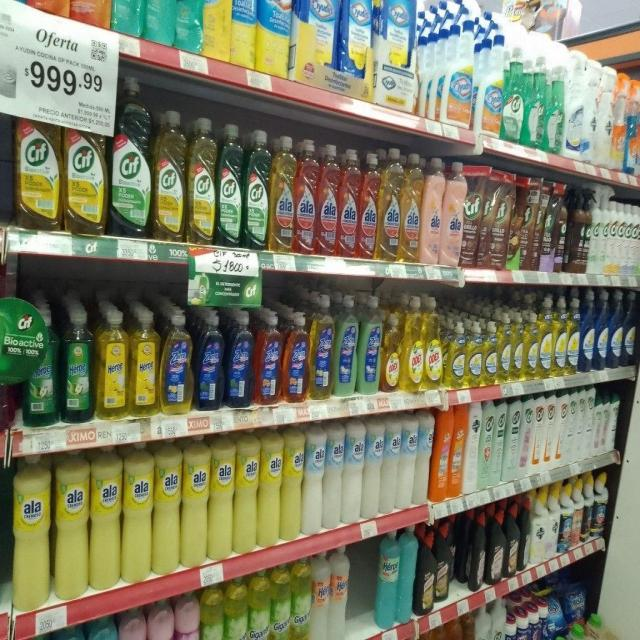ala_conc_amarillo: (270, 134, 294, 252), (379, 148, 400, 262), (401, 151, 421, 263)
ala_conc_rojo: (295, 138, 317, 255), (317, 142, 338, 256), (338, 146, 358, 258), (359, 150, 378, 260)
ala_crem_amarillo: (12, 452, 51, 612), (54, 449, 88, 601), (90, 445, 121, 591), (123, 441, 152, 584), (154, 437, 180, 575), (182, 433, 208, 568), (210, 431, 233, 560), (235, 428, 258, 554), (259, 425, 281, 548)
ala_crem_blanco: (304, 421, 323, 535), (344, 418, 364, 524), (324, 420, 343, 529), (364, 416, 382, 518), (400, 411, 416, 511), (383, 415, 399, 515), (416, 408, 432, 506)
ala_ultra_rosa: (441, 160, 463, 266), (421, 156, 441, 264)
cif_conc_bot_amarilla: (16, 102, 62, 230), (64, 101, 107, 235), (154, 108, 187, 241), (188, 115, 216, 244)
cif_conc_botella_verde: (111, 75, 152, 237), (217, 122, 243, 248), (244, 128, 269, 250), (503, 40, 523, 143), (0, 70, 13, 224)
heroe: (95, 307, 128, 419), (130, 308, 160, 417), (375, 530, 398, 629), (329, 546, 349, 640), (310, 549, 329, 640), (291, 555, 310, 640), (88, 616, 118, 640), (56, 624, 86, 640)
magistral_con_amarillo: (447, 320, 466, 390), (538, 296, 552, 378), (553, 296, 566, 376), (567, 294, 580, 374), (467, 321, 482, 387), (524, 310, 538, 380), (483, 320, 498, 385), (498, 312, 511, 383), (512, 312, 524, 381)
magistral_con_azul: (580, 289, 594, 372), (595, 289, 609, 370), (609, 289, 623, 368), (624, 289, 636, 366)
odex: (402, 296, 423, 392), (424, 296, 443, 390), (382, 306, 401, 394)
zorro: (162, 308, 193, 414), (196, 308, 225, 411), (226, 309, 253, 408), (255, 308, 282, 406), (310, 293, 334, 400), (334, 294, 358, 396), (358, 294, 381, 395), (284, 310, 308, 404)
